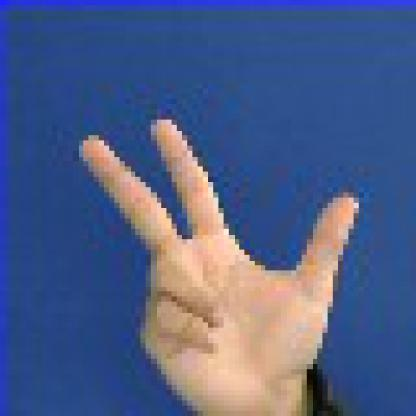eight: (52, 88, 411, 411)
